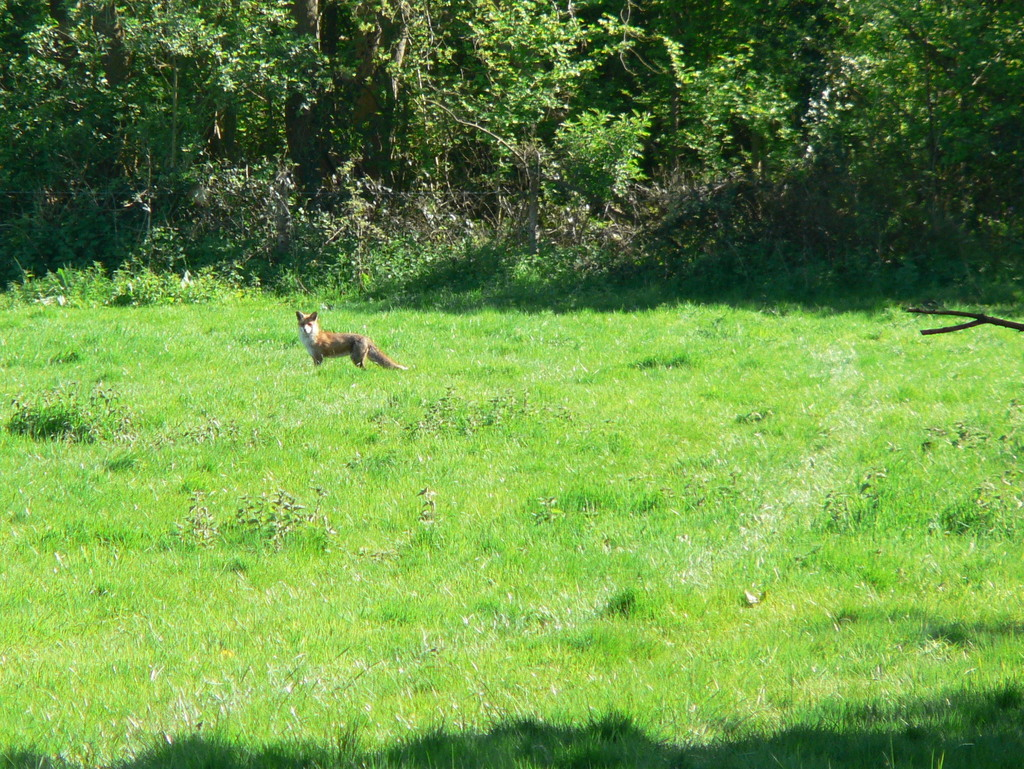Animal: (298, 303, 411, 371)
